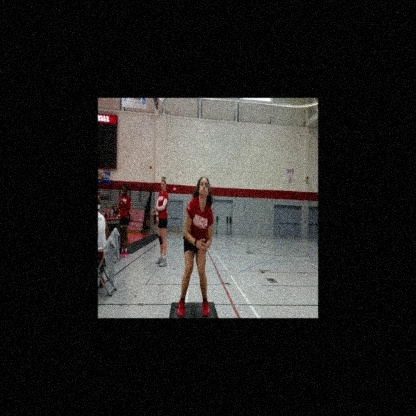lateral_flexion_right: (176, 174, 214, 318)
stance_width_broad: (176, 195, 214, 318)
